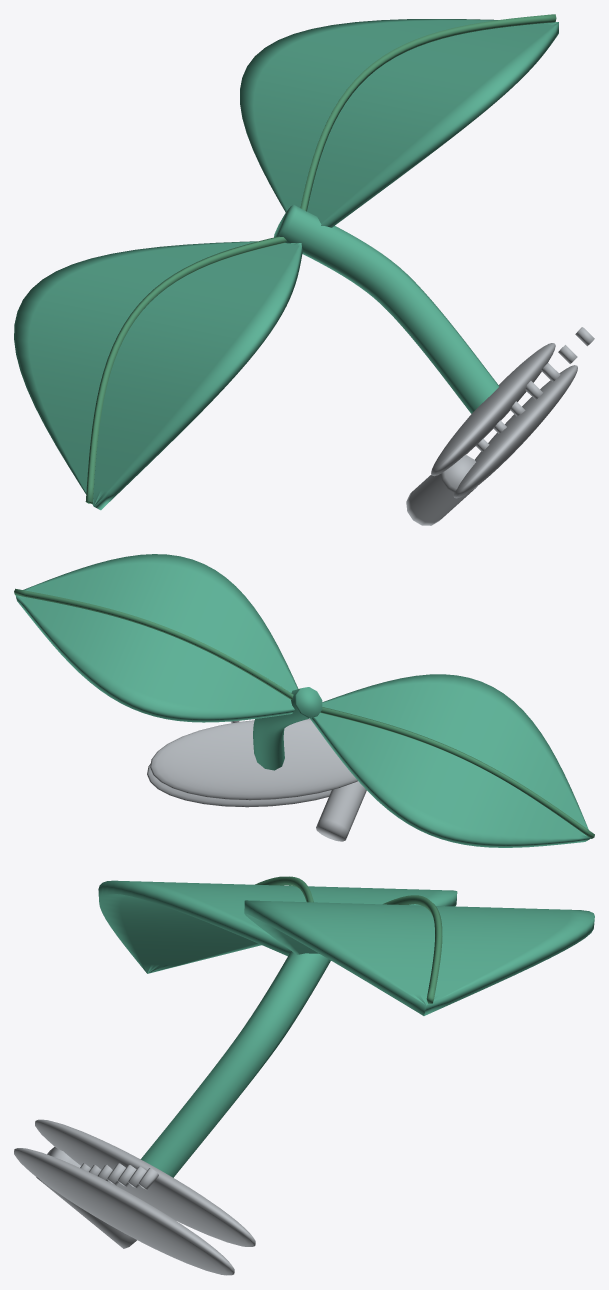
Rendered from Masculine-afro-none260-sprout.glb.
The picture shows the model from 3 angles, top to bottom: view 1: azimuth 30°, elevation 25°; view 2: azimuth 150°, elevation 25°; view 3: azimuth 270°, elevation 25°; orthographic projection. The views are drawn at different scales.
Visible parts, largest first — view 1: 226 extra / Accessory / mint226, 226 extra / Sprout / clip silver235, 226 extra / Sprout / leaf vein235; view 2: 226 extra / Accessory / mint226, 226 extra / Sprout / clip silver235, 226 extra / Sprout / leaf vein235; view 3: 226 extra / Accessory / mint226, 226 extra / Sprout / clip silver235, 226 extra / Sprout / leaf vein235.
Part boxes in pixels (x1,y1,x2,y2): 226 extra / Accessory / mint226: [14, 19, 558, 510]; 226 extra / Sprout / clip silver235: [406, 327, 594, 525]; 226 extra / Sprout / leaf vein235: [85, 14, 556, 503]; 226 extra / Accessory / mint226: [15, 554, 590, 847]; 226 extra / Sprout / clip silver235: [147, 719, 366, 841]; 226 extra / Sprout / leaf vein235: [14, 588, 594, 838]; 226 extra / Accessory / mint226: [98, 880, 594, 1177]; 226 extra / Sprout / clip silver235: [14, 1119, 255, 1275]; 226 extra / Sprout / leaf vein235: [255, 876, 442, 1003].
Size of the model in its own units: 0.2393 by 0.1412 by 0.1789.
